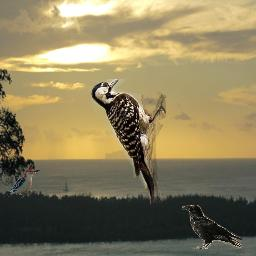Crow: (182, 205, 242, 249)
Woodpecker: (91, 79, 166, 205), (4, 169, 40, 198)
